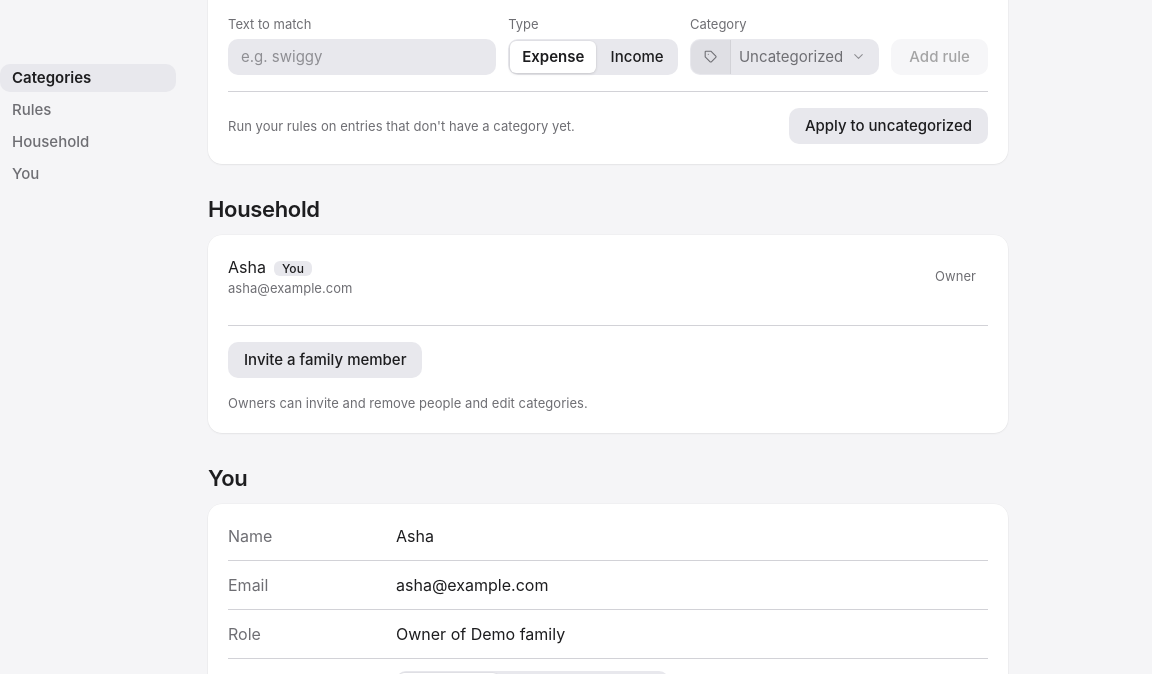
selects the link and says how to copy it when the clipboard refuses
(page scrolled)
Click the button "Invite a family member". click: (325, 360)
box: [228, 342, 422, 378]
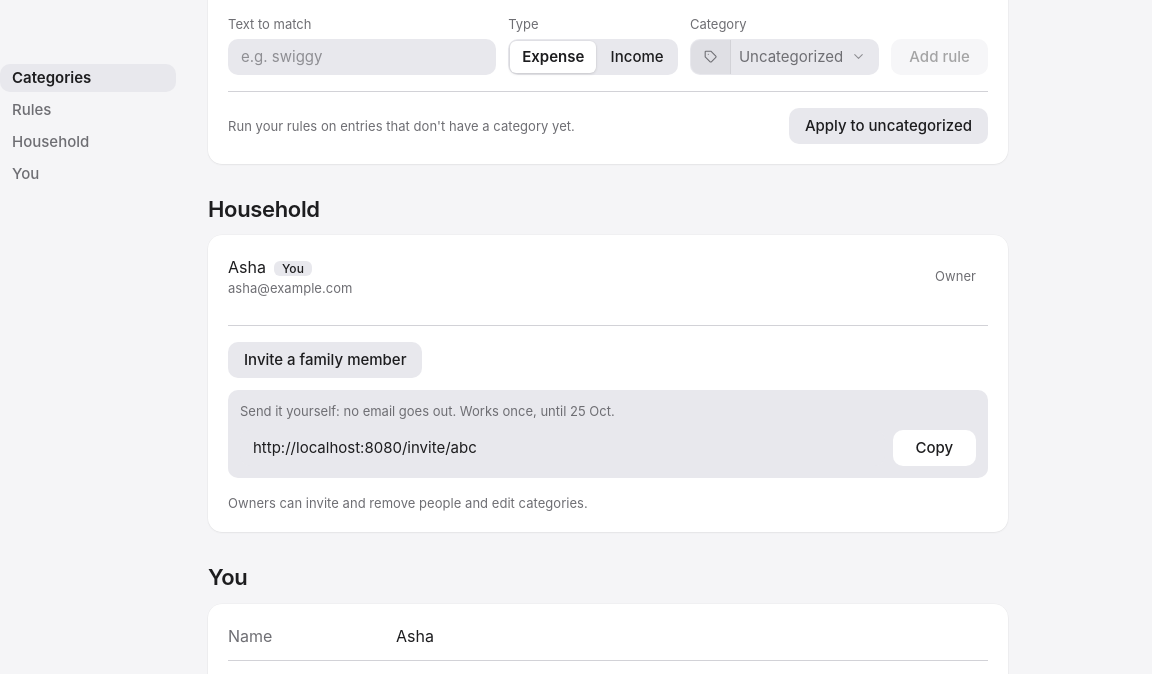
Click the button "Copy". click: (934, 448)
box: [893, 430, 976, 466]
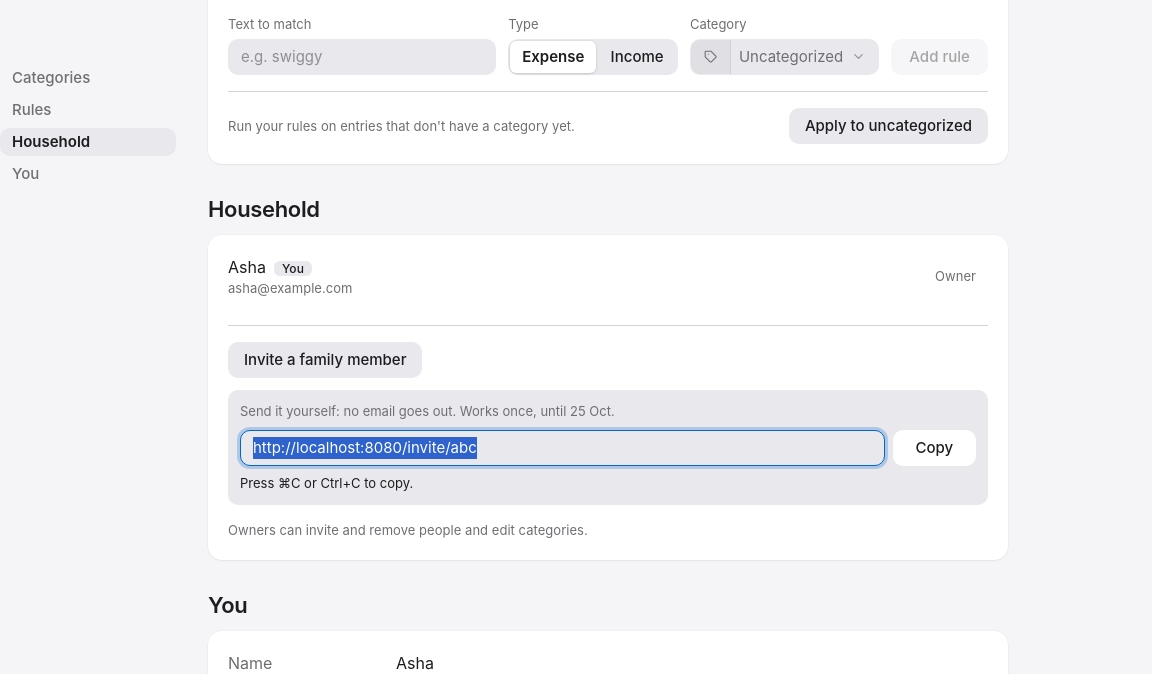
Result: the text "Press ⌘C or Ctrl+C to copy." is shown at [240, 475, 413, 491]
